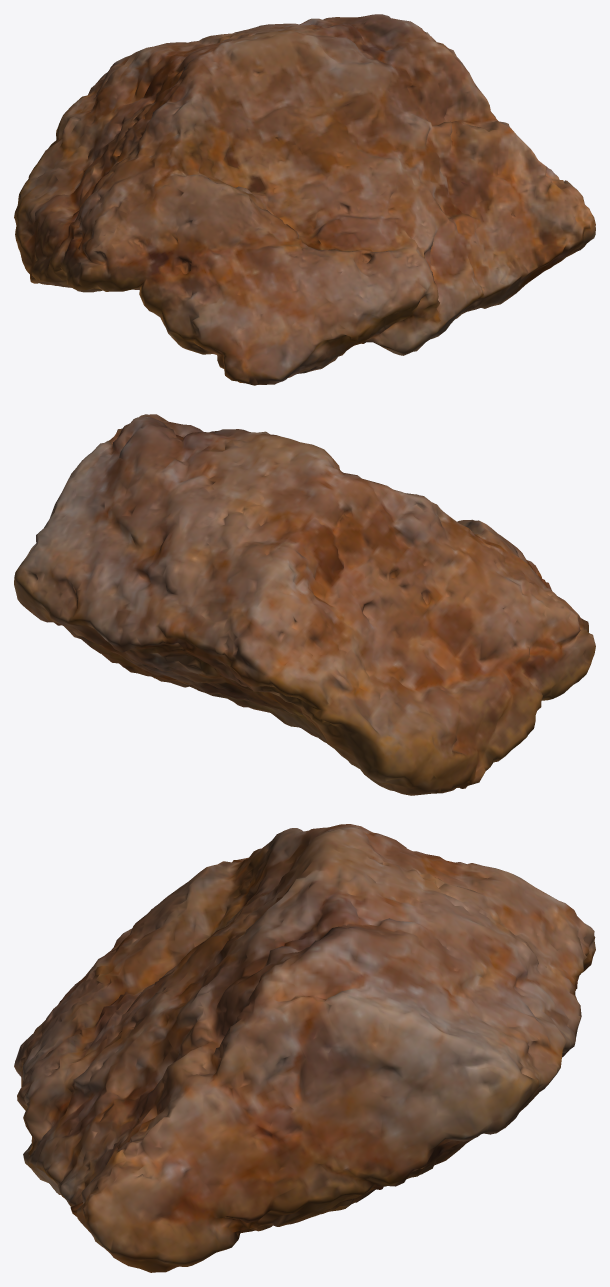
The model's file is namaqualand_stones_01_a.glb.
3 views of the same model, one above another, from view 1: azimuth 30°, elevation 25°; view 2: azimuth 150°, elevation 25°; view 3: azimuth 270°, elevation 25° (orthographic). The views are drawn at different scales.
Parts seen in each view (by area): view 1: namaqualand_stones_01_a_LOD0; view 2: namaqualand_stones_01_a_LOD0; view 3: namaqualand_stones_01_a_LOD0.
Part boxes in pixels (x1,y1,x2,y2): namaqualand_stones_01_a_LOD0: [14, 14, 595, 385]; namaqualand_stones_01_a_LOD0: [14, 414, 595, 795]; namaqualand_stones_01_a_LOD0: [14, 824, 595, 1272].
Bounding box in the file's own units: 0.0763 × 0.038 × 0.0631.
Materials: 1 (1 with a texture image).
